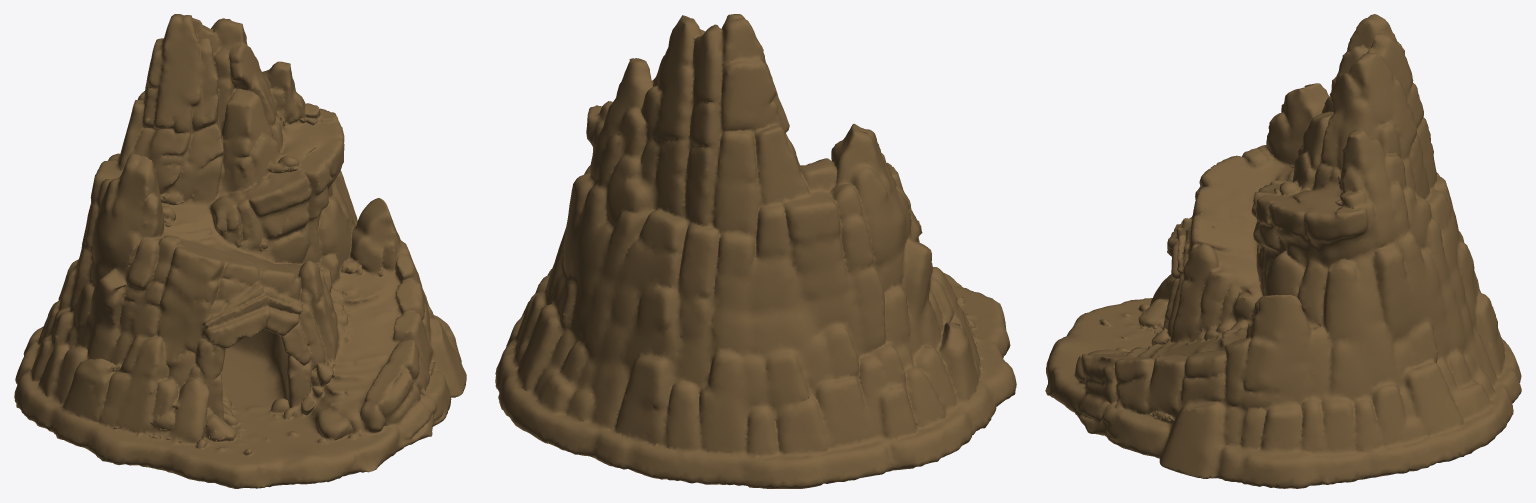
File: Cave.fbx
3 renders of one model, left to right at view 1: azimuth 30°, elevation 25°; view 2: azimuth 150°, elevation 25°; view 3: azimuth 270°, elevation 25°, orthographic. The views are drawn at different scales.
Parts seen in each view (by area): view 1: Rock Mountain with cave realistic 85k by JJ_gameasset; view 2: Rock Mountain with cave realistic 85k by JJ_gameasset; view 3: Rock Mountain with cave realistic 85k by JJ_gameasset.
Boxes of the visible parts, box(x1,y1,x2,y2) form: Rock Mountain with cave realistic 85k by JJ_gameasset: box(14, 14, 466, 488); Rock Mountain with cave realistic 85k by JJ_gameasset: box(495, 14, 1016, 488); Rock Mountain with cave realistic 85k by JJ_gameasset: box(1045, 14, 1521, 488).
Bounding box in the file's own units: 89.22 × 75.01 × 89.77.
